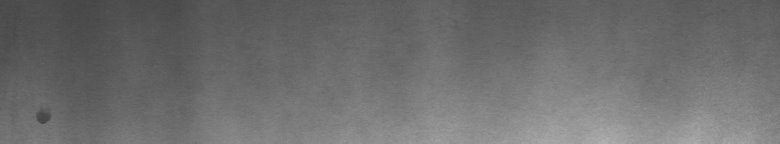fi: (33, 108, 55, 132)
